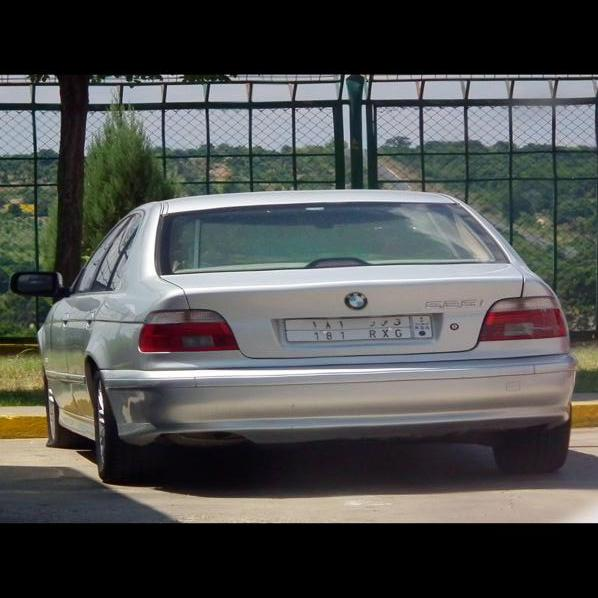numberplate: (283, 316, 436, 342)
